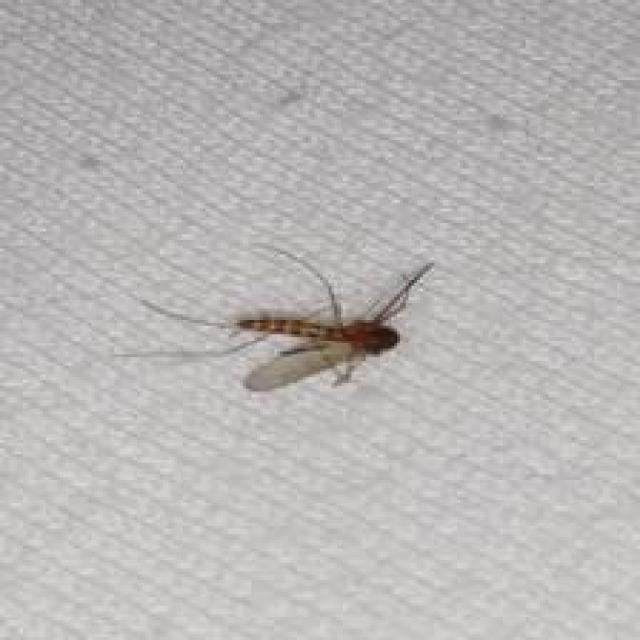Culex: (116, 240, 436, 394)
